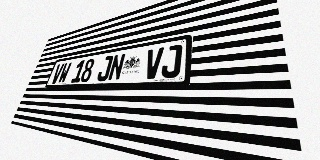1: (71, 60, 87, 83)
8: (79, 58, 96, 82)
J: (160, 44, 183, 78), (96, 55, 114, 81)
N: (107, 53, 126, 81)
V: (143, 47, 164, 79), (50, 63, 65, 84)
W: (57, 62, 72, 83)
